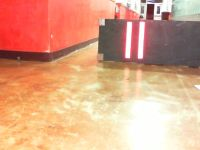switch: (137, 21, 146, 59), (124, 21, 133, 58)
